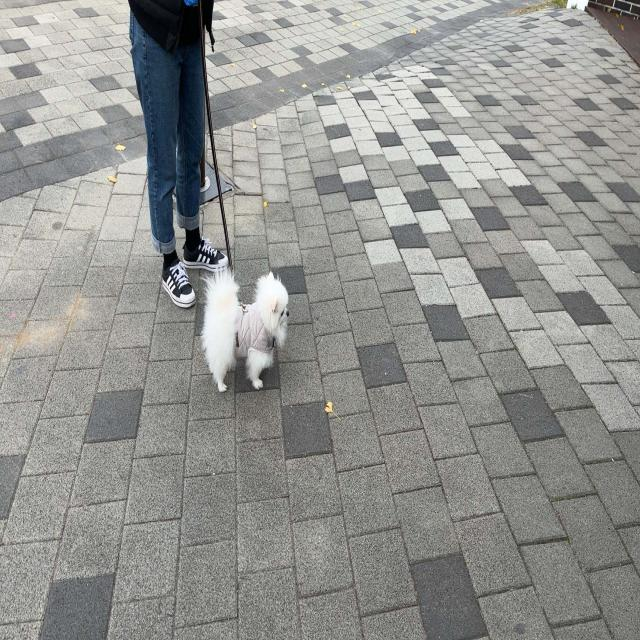Leashed_Dog: (181, 0, 289, 392)
